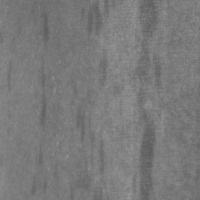inclusion: (130, 1, 165, 199), (87, 124, 113, 187), (33, 52, 53, 129), (92, 42, 114, 93), (70, 104, 95, 146), (82, 0, 106, 41), (38, 6, 57, 53), (3, 55, 20, 99), (31, 137, 50, 170)
